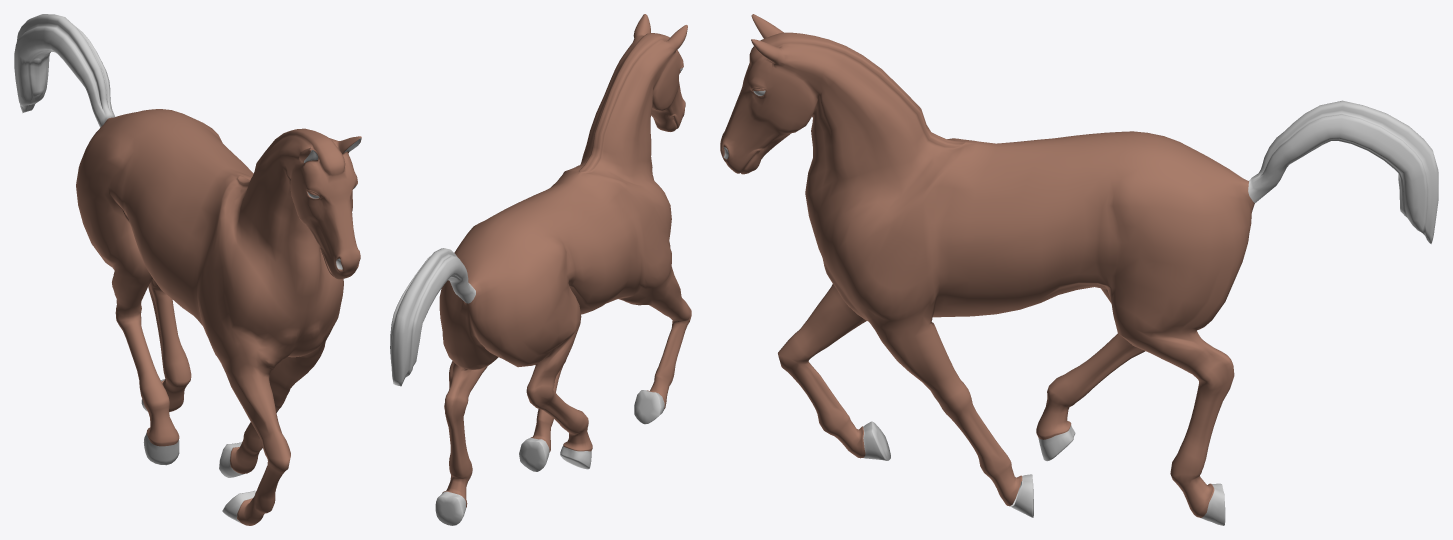
File: horse_obj_4.obj
The picture shows the model from 3 angles, left to right: view 1: azimuth 30°, elevation 25°; view 2: azimuth 150°, elevation 25°; view 3: azimuth 270°, elevation 25°; orthographic projection. The views are drawn at different scales.
Visible parts, largest first — view 1: Figure_1; view 2: Figure_1; view 3: Figure_1.
Part boxes in pixels (bbox=[...]): Figure_1: bbox=[14, 14, 361, 525]; Figure_1: bbox=[390, 14, 691, 525]; Figure_1: bbox=[720, 14, 1438, 525].
Bounding box in the file's own units: 0.2421 × 0.7941 × 1.08.
